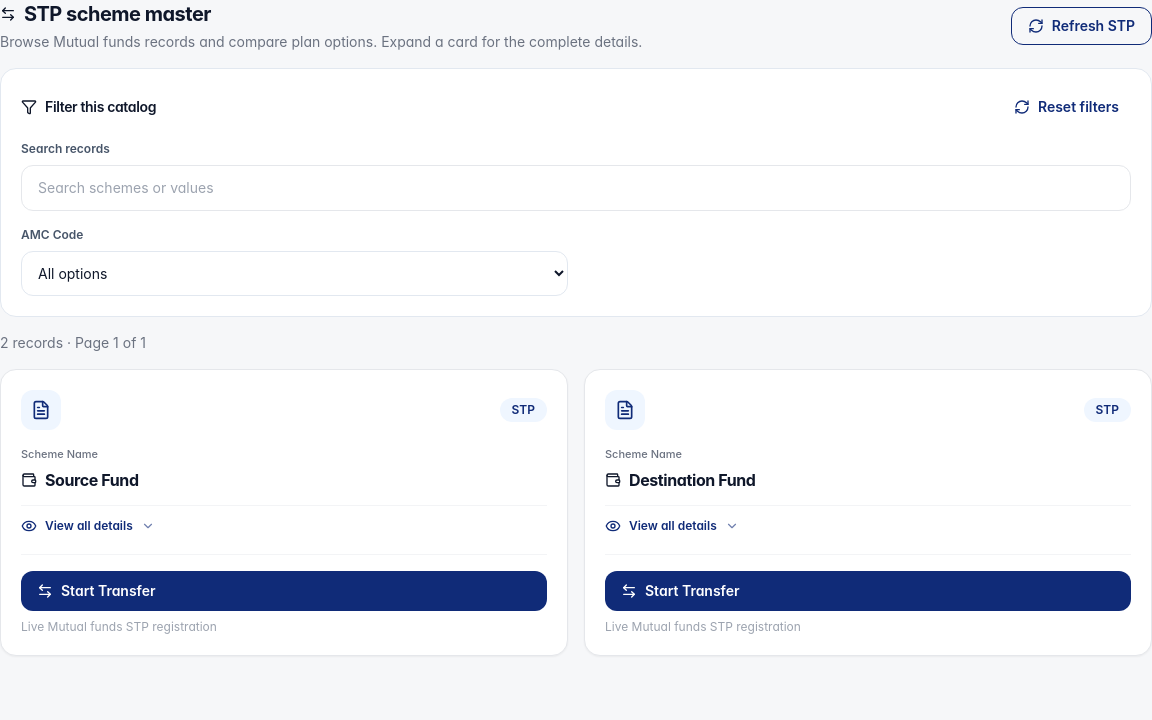
Mutual funds selected master preview › opens the correct plan form from a STP card
Click the button "Start Transfer" below "Source Fund": [108, 590] box [21, 570, 547, 610]
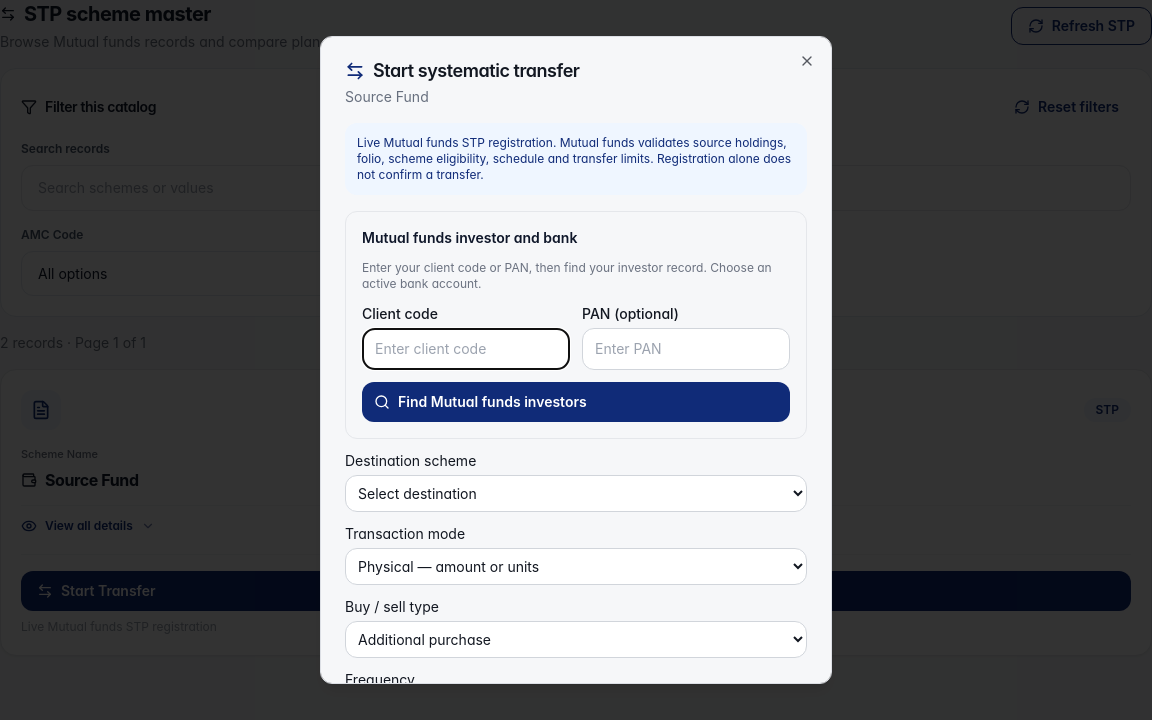
Expected: the dialog is shown, [320, 36, 832, 684]
Expected: the heading "Start systematic transfer" is shown, [345, 60, 580, 81]
